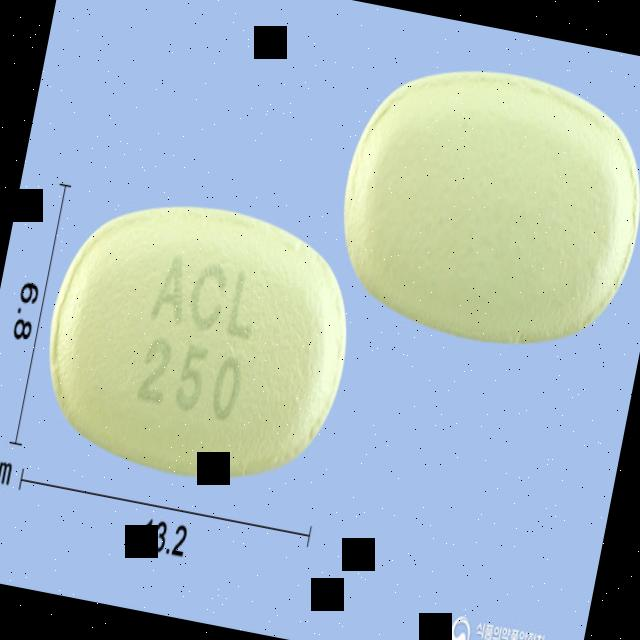Clorid: (26, 182, 371, 503)
